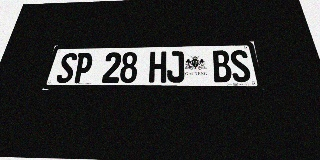2: (102, 52, 122, 83)
8: (119, 52, 139, 83)
B: (211, 50, 233, 82)
H: (149, 51, 166, 83)
J: (167, 51, 185, 83)
P: (72, 53, 94, 83)
S: (229, 50, 252, 82), (55, 53, 78, 83)
